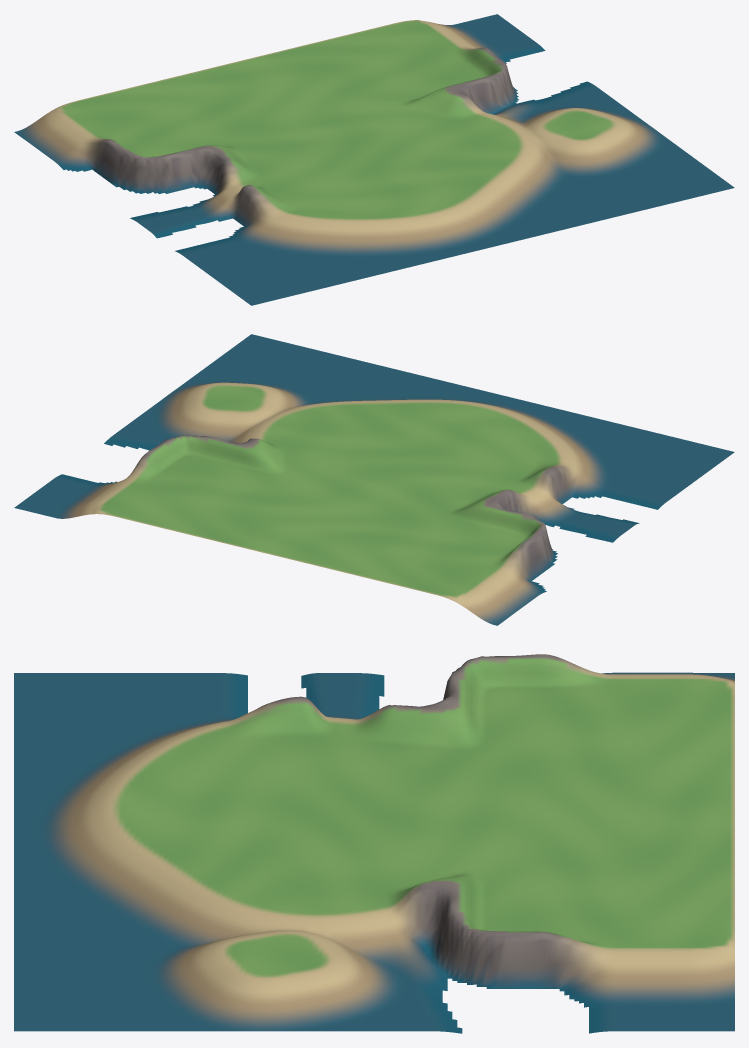
Rendered from terrain_s2.glb.
The picture shows the model from 3 angles, top to bottom: view 1: azimuth 30°, elevation 25°; view 2: azimuth 150°, elevation 25°; view 3: azimuth 270°, elevation 25°; orthographic projection. The views are drawn at different scales.
Parts seen in each view (by area): view 1: Terrain; view 2: Terrain; view 3: Terrain.
Part boxes in pixels (bbox=[...]): Terrain: bbox=[14, 14, 734, 305]; Terrain: bbox=[14, 334, 734, 625]; Terrain: bbox=[14, 654, 734, 1033].
Bounding box in the file's own units: 17.4 × 1.07 × 14.8.
